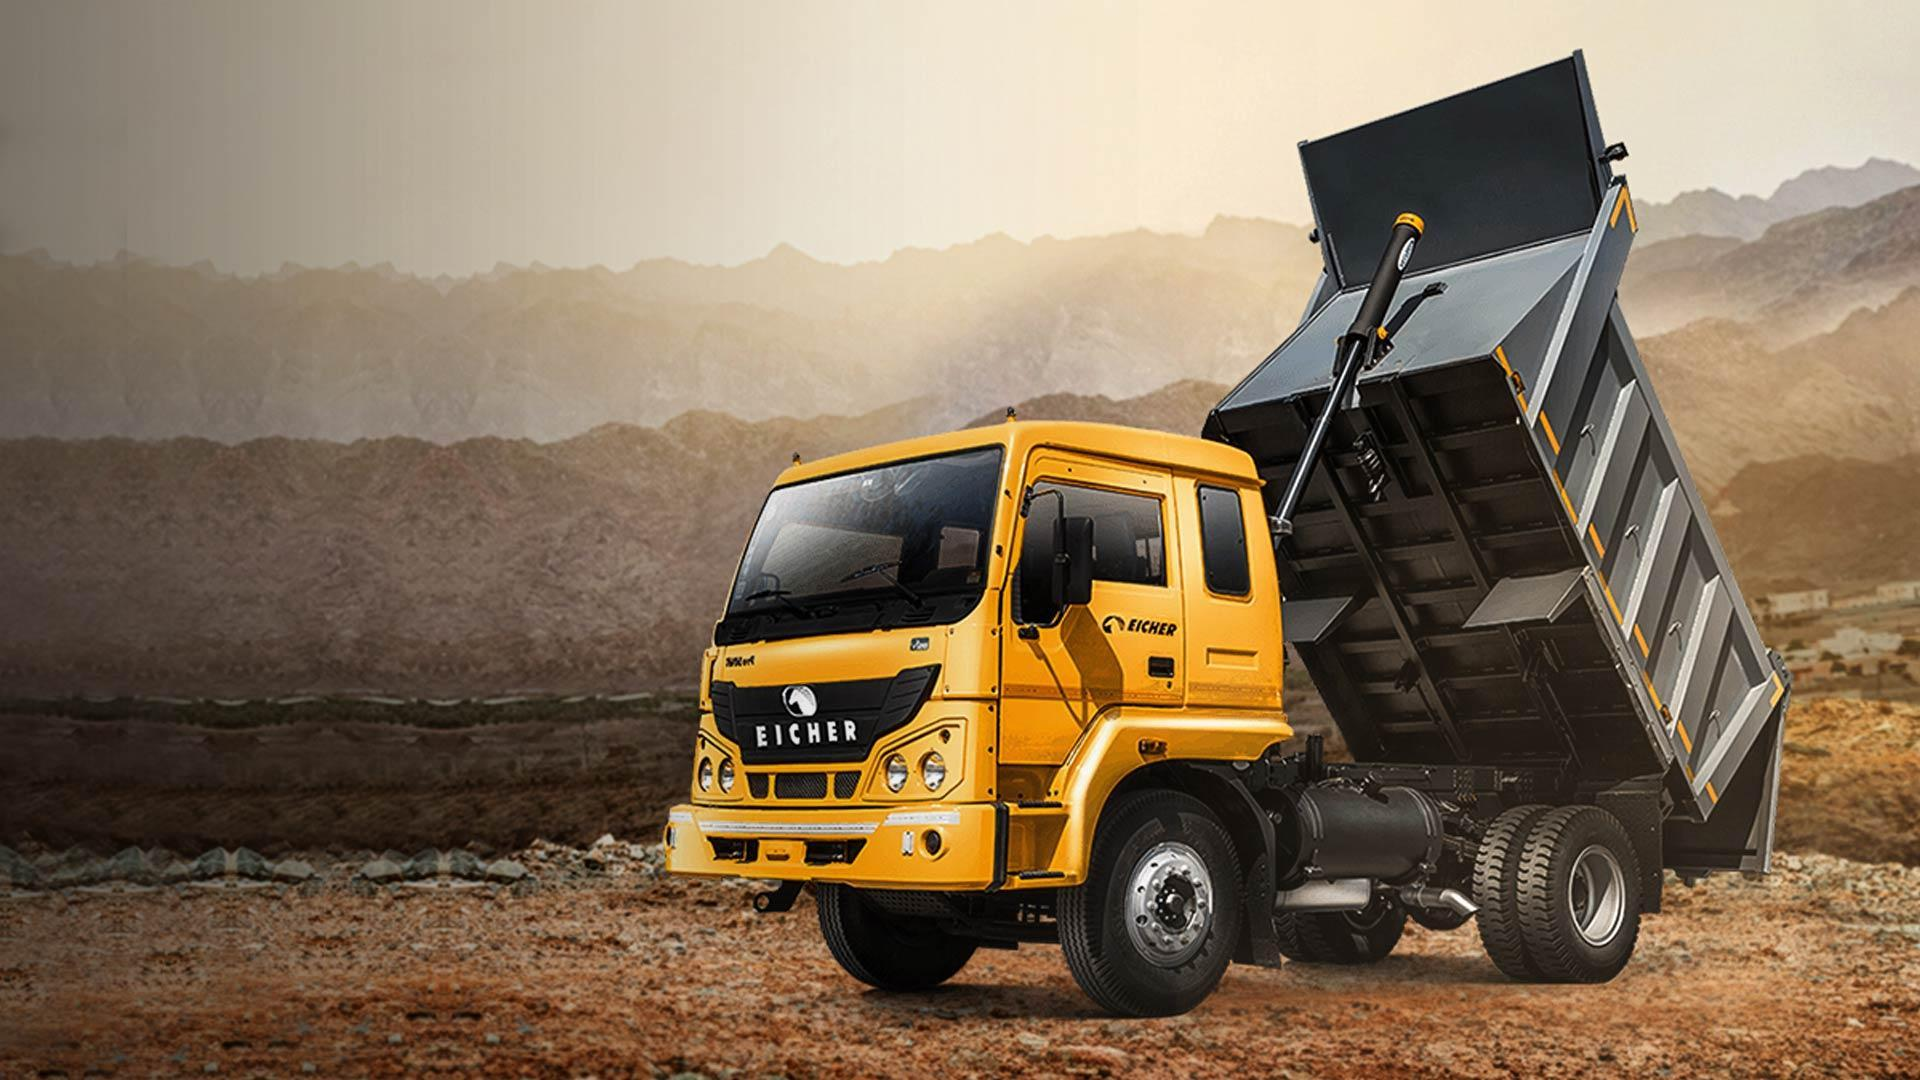truck: (659, 49, 1789, 1018)
